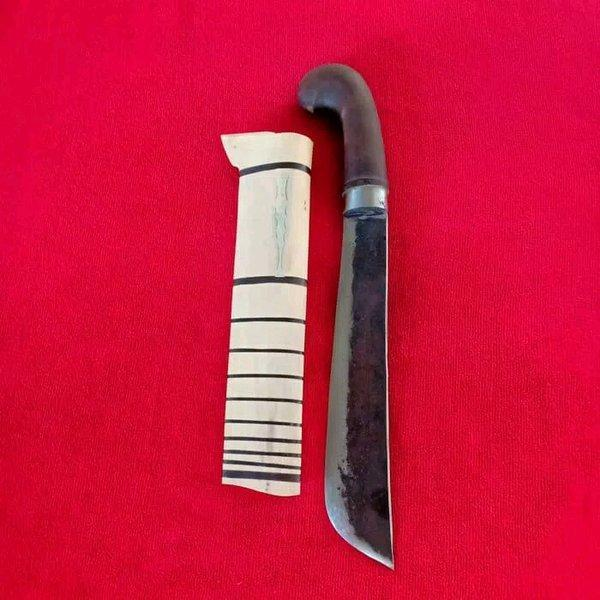facao: (300, 64, 392, 567)
